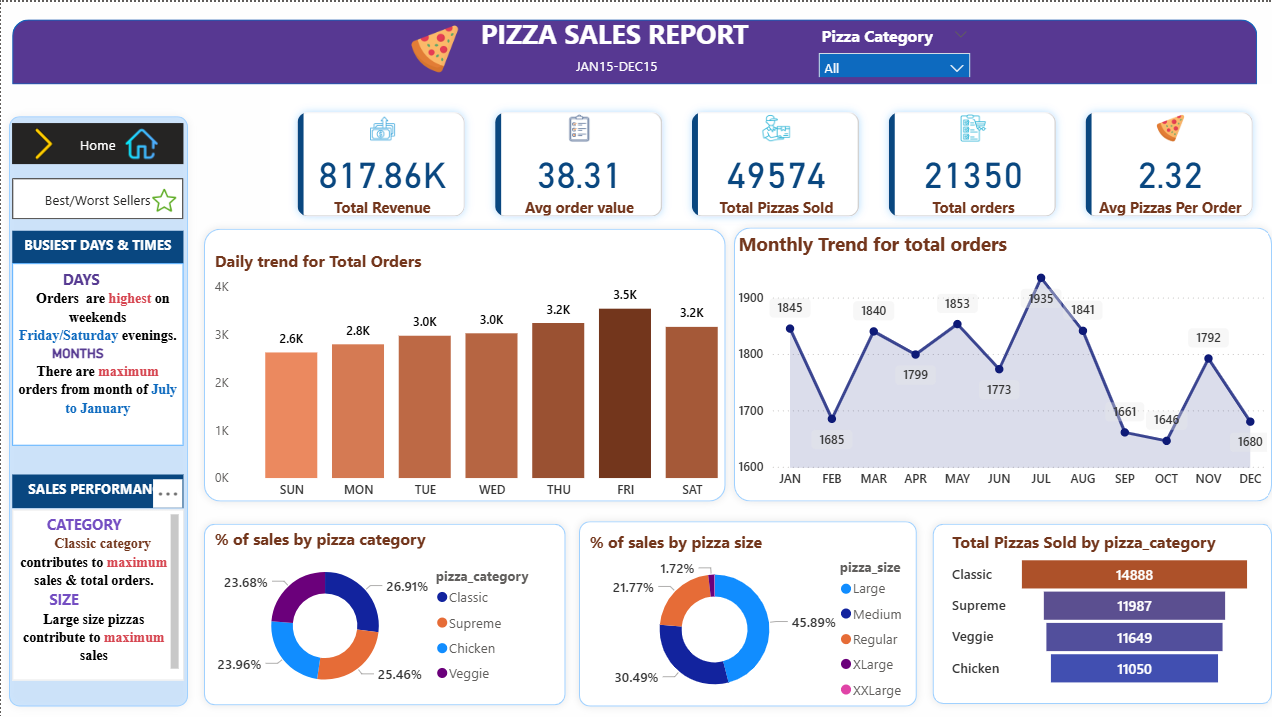

What the dashboard file says about the page in this screenshot:
{"tool":"powerbi","page":{"name":"Home","canvas":[1280,720],"ordinal":0},"visuals":[{"type":"cardVisual","fields":{"Data":["pizza_sales.Total Revenue","pizza_sales.Avg order value","pizza_sales.Total Pizzas Sold","pizza_sales.Total orders","pizza_sales.Avg Pizzas Per Order"]},"box":[268.8,82.5,1011.2,160],"z":0},{"type":"shape","box":[11.2,17.5,1245,65],"z":1000},{"type":"textbox","box":[420,8.8,387.5,60],"z":2000},{"type":"textbox","box":[21.2,506.2,161.2,32.5],"z":3000},{"type":"textbox","box":[570,50,101.2,32.5],"z":4000},{"type":"shape","box":[195,218.8,537.5,288.8],"z":5000},{"type":"columnChart","title":"Daily trend for Total Orders","fields":{"Category":["pizza_sales.Order Day"],"Y":["pizza_sales.Total orders"]},"box":[208.8,247.5,541.2,258.8],"z":6000},{"type":"shape","box":[725,217.5,555,290],"z":7000},{"type":"areaChart","title":"Monthly Trend for total orders","fields":{"Category":["pizza_sales.Order Month"],"Y":["pizza_sales.Total orders"]},"box":[732.5,228.8,538.8,266.2],"z":8000},{"type":"shape","box":[195,513.8,377.5,197.5],"z":9000},{"type":"shape","box":[570,511.2,353.8,201.2],"z":10000},{"type":"shape","box":[923.8,513.8,356.2,196.2],"z":11000},{"type":"donutChart","title":"% of sales by pizza category","fields":{"Category":["pizza_sales.pizza_category"],"Y":["pizza_sales.Total Revenue"]},"box":[208.8,525,340,176.2],"z":12000},{"type":"donutChart","title":"% of sales by pizza size","fields":{"Y":["pizza_sales.Total Revenue"],"Category":["pizza_sales.pizza_size"]},"box":[583.8,528.8,340,176.2],"z":13000},{"type":"funnel","fields":{"Category":["pizza_sales.pizza_category"],"Y":["pizza_sales.Total Pizzas Sold"]},"box":[946.2,528.8,310,160],"z":14000},{"type":"shape","box":[0,106.2,195,606.2],"z":15000},{"type":"textbox","box":[11.2,228.8,171.2,32.5],"z":16000},{"type":"textbox","box":[11.2,261.2,171.2,182.5],"z":17000},{"type":"textbox","box":[11.2,472.5,171.2,33.8],"z":18000},{"type":"textbox","box":[11.2,507.5,171.2,171.2],"z":19000},{"type":"slicer","fields":{"Values":["pizza_sales.pizza_category"]},"box":[807.5,17.5,171.2,57.5],"z":20000},{"type":"pageNavigator","box":[11.2,121.2,171.2,41.2],"z":21000},{"type":"pageNavigator","box":[11.2,176.2,171.2,41.2],"z":22000},{"type":"image","box":[86.2,126.2,108.8,31.2],"z":23000},{"type":"image","box":[0,126.2,86.2,31.2],"z":24000},{"type":"image","box":[131.2,186.2,63.8,23.8],"z":25000},{"type":"image","box":[283.8,22.5,300,48.8],"z":26000}]}

Visuals, with their boxes in screenshot pixels (x1, y1, x2, y2), scaled from the page's 1280x720 canvas onto the 1272x717 screenshot:
cardVisual - pizza_sales.Total Revenue x pizza_sales.Avg order value: bbox=[267, 82, 1271, 241]
shape: bbox=[11, 17, 1248, 82]
textbox: bbox=[417, 9, 802, 69]
textbox: bbox=[21, 504, 181, 536]
textbox: bbox=[566, 50, 667, 82]
shape: bbox=[194, 218, 728, 505]
"Daily trend for Total Orders" columnChart: bbox=[207, 246, 745, 504]
shape: bbox=[720, 217, 1271, 505]
"Monthly Trend for total orders" areaChart: bbox=[728, 228, 1263, 493]
shape: bbox=[194, 512, 569, 708]
shape: bbox=[566, 509, 918, 709]
shape: bbox=[918, 512, 1271, 707]
"% of sales by pizza category" donutChart: bbox=[207, 523, 545, 698]
"% of sales by pizza size" donutChart: bbox=[580, 527, 918, 702]
funnel - pizza_sales.pizza_category x pizza_sales.Total Pizzas Sold: bbox=[940, 527, 1248, 686]
shape: bbox=[0, 106, 194, 709]
textbox: bbox=[11, 228, 181, 260]
textbox: bbox=[11, 260, 181, 442]
textbox: bbox=[11, 471, 181, 504]
textbox: bbox=[11, 505, 181, 676]
slicer - pizza_sales.pizza_category: bbox=[802, 17, 973, 75]
pageNavigator: bbox=[11, 121, 181, 162]
pageNavigator: bbox=[11, 175, 181, 216]
image: bbox=[86, 126, 194, 157]
image: bbox=[0, 126, 86, 157]
image: bbox=[130, 185, 194, 209]
image: bbox=[282, 22, 580, 71]
